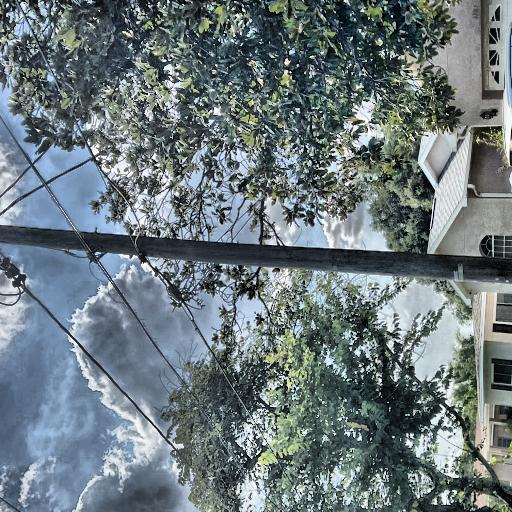pole: (82, 20, 180, 512)
street light: (10, 0, 154, 104)
